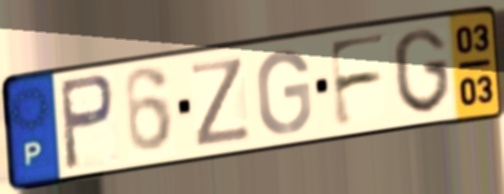6: (124, 62, 176, 164)
F: (325, 29, 390, 132)
G: (390, 24, 454, 116), (254, 46, 314, 137)
P: (56, 71, 118, 173)
Z: (188, 54, 255, 150)
